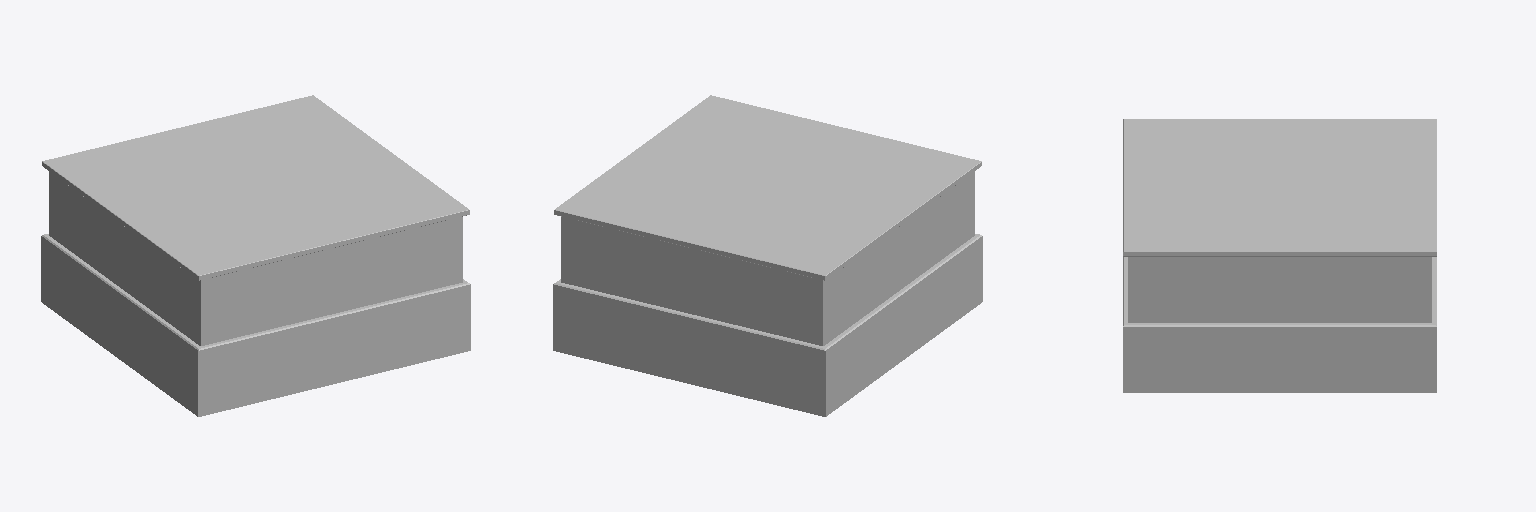
Rendered from BuildingBase_1x1_A.obj.
3 views of the same model, side by side, from view 1: azimuth 30°, elevation 25°; view 2: azimuth 150°, elevation 25°; view 3: azimuth 270°, elevation 25° (orthographic).
Parts seen in each view (by area): view 1: 1x1_BuildingBase_Cube.001; view 2: 1x1_BuildingBase_Cube.001; view 3: 1x1_BuildingBase_Cube.001.
Boxes of the visible parts, box(x1,y1,x2,y2) form: 1x1_BuildingBase_Cube.001: box(41, 95, 470, 416); 1x1_BuildingBase_Cube.001: box(553, 95, 982, 416); 1x1_BuildingBase_Cube.001: box(1123, 119, 1436, 392).
Size of the model in its own units: 2.07 by 1.03 by 2.07.